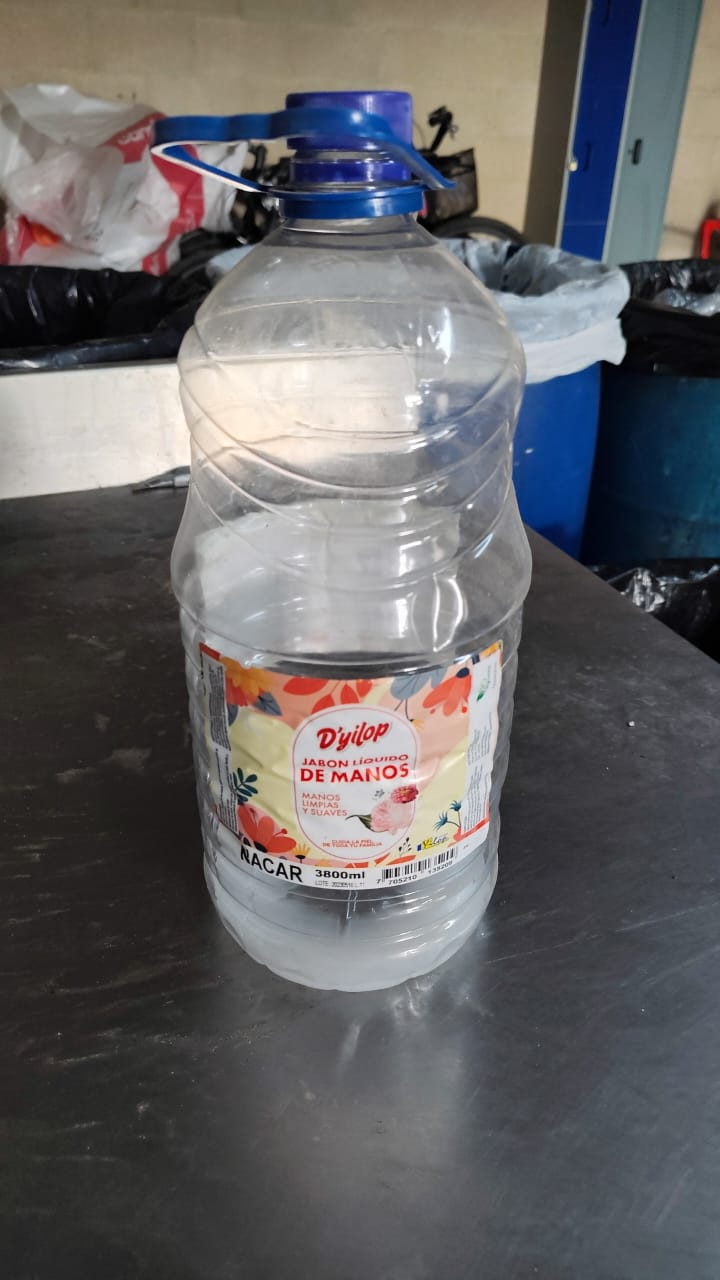Plastico: (166, 89, 530, 991)
